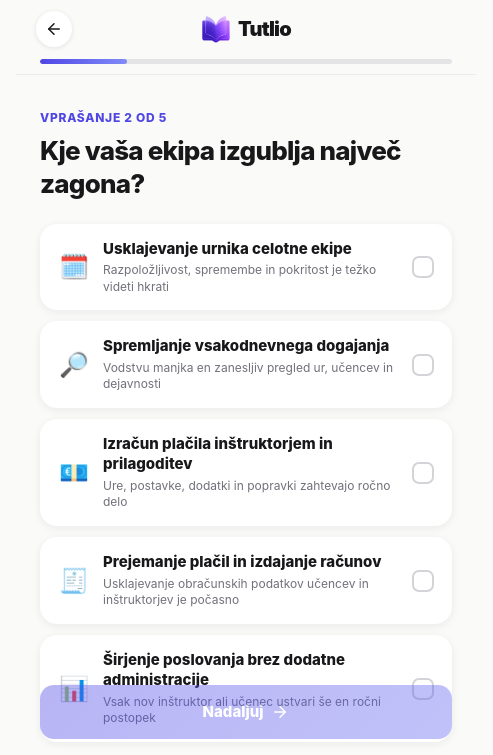
Slovenian quiz interface › retains Slovenian on the business challenge-to-insight transition
expect the button with test id "floating-proceed" is disabled: met, box left=40, top=685, right=452, bottom=739
Click the checkbox labelled "Usklajevanje urnika celotne ekipe".
click(246, 267)  # box left=40, top=224, right=452, bottom=310
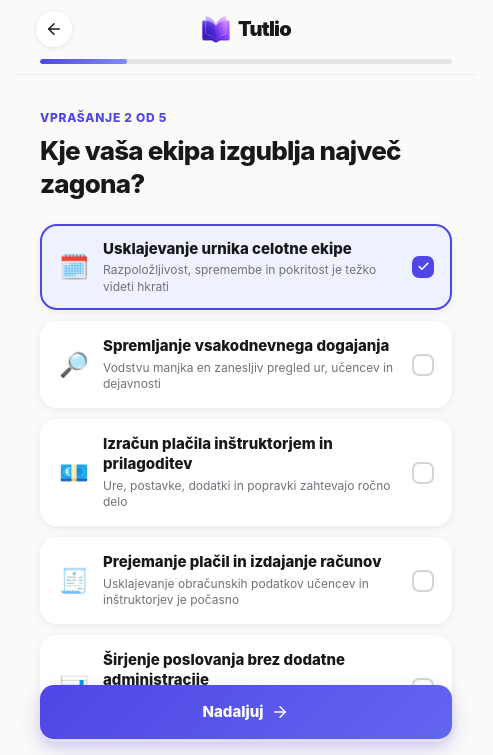
Click the checkbox labelled "Izračun plačila inštruktorjem in prilagoditev".
click(218, 444)  # box left=40, top=419, right=452, bottom=526
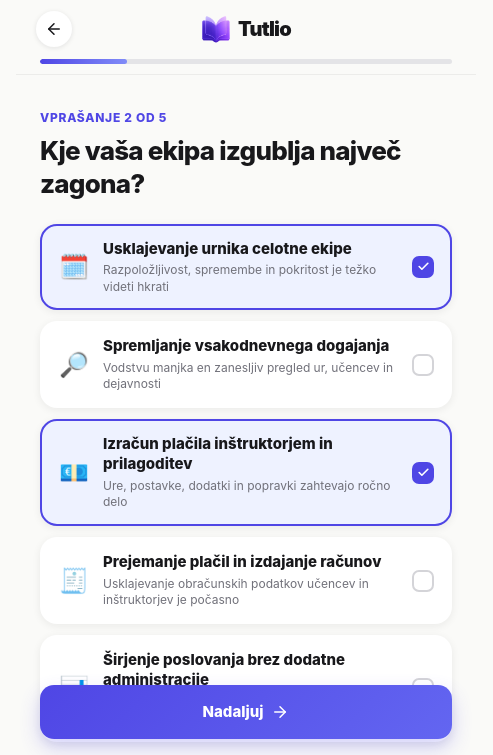
expect the button with test id "floating-proceed" is enabled: met
Click the button with test id "floating-proceed".
click(246, 712)  # box left=40, top=685, right=452, bottom=739
Wait 500 ms
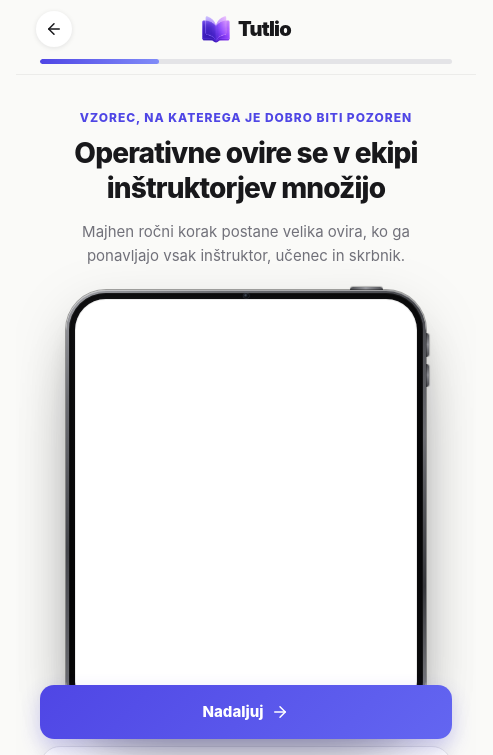
expect the heading "Operativne ovire se v ekipi inštruktorjev množijo" is shown: met, box left=51, top=136, right=441, bottom=206
